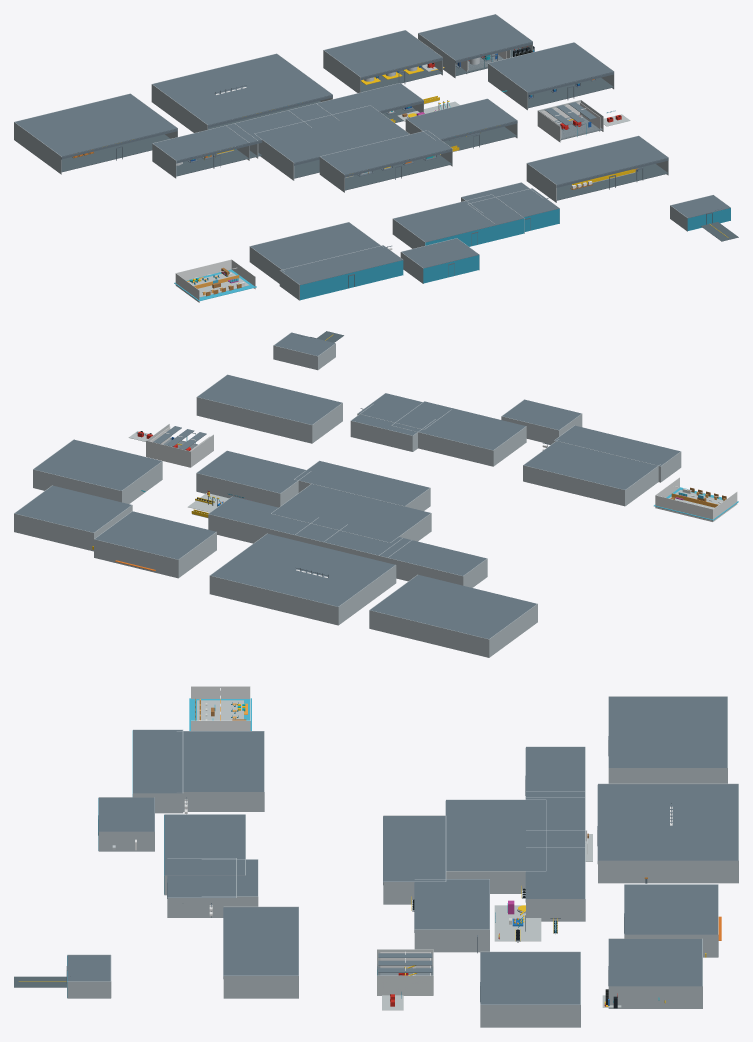
The model's file is POVU_REV005_INTERIOR_COMPLETION_MASTER.glb.
The picture shows the model from 3 angles, top to bottom: view 1: azimuth 30°, elevation 25°; view 2: azimuth 150°, elevation 25°; view 3: azimuth 270°, elevation 25°; orthographic projection. The views are drawn at different scales.
Visible parts, largest first — view 1: V09_PACKAGING_WH_SOFFIT, V09_RAW_MATERIALS_SOFFIT, V09_WET_PROCESS_SOFFIT, V09_ETP_SOFFIT, V09_FINISHED_GOODS_SOFFIT, V09_ADMIN_SOFFIT, V09_RESTAURANT_SOFFIT, V09_CHEM_SOFFIT, V09_UTILITIES_SOFFIT, V09_LIQUID_SOFFIT, V09_BLOW_SOFFIT, V09_WET_WIPES_SOFFIT (+30 smaller); view 2: V09_PACKAGING_WH_SOFFIT, V09_RAW_MATERIALS_SOFFIT, V09_WET_PROCESS_SOFFIT, V09_ETP_SOFFIT, V09_FINISHED_GOODS_SOFFIT, V09_ADMIN_SOFFIT, V09_RESTAURANT_SOFFIT, V09_CHEM_SOFFIT, V09_UTILITIES_SOFFIT, V09_LIQUID_SOFFIT, V09_BLOW_SOFFIT, V09_PACKAGING_WH_BACK_WALL (+30 smaller); view 3: V09_PACKAGING_WH_SOFFIT, V09_RAW_MATERIALS_SOFFIT, V09_WET_PROCESS_SOFFIT, V09_ETP_SOFFIT, V09_ADMIN_SOFFIT, V09_FINISHED_GOODS_SOFFIT, V09_RESTAURANT_SOFFIT, V09_CHEM_SOFFIT, V09_UTILITIES_SOFFIT, V09_LIQUID_SOFFIT, V09_BLOW_SOFFIT, V09_PACKAGING_WH_RIGHT_WALL (+28 smaller).
Part boxes in pixels (<box>): V09_PACKAGING_WH_SOFFIT: <box>152,54,332,125</box>; V09_RAW_MATERIALS_SOFFIT: <box>15,94,177,156</box>; V09_WET_PROCESS_SOFFIT: <box>255,106,409,163</box>; V09_ETP_SOFFIT: <box>489,42,613,92</box>; V09_FINISHED_GOODS_SOFFIT: <box>527,136,668,185</box>; V09_ADMIN_SOFFIT: <box>250,222,382,269</box>; V09_RESTAURANT_SOFFIT: <box>393,194,523,242</box>; V09_CHEM_SOFFIT: <box>324,30,442,77</box>; V09_UTILITIES_SOFFIT: <box>419,14,532,60</box>; V09_LIQUID_SOFFIT: <box>320,131,451,174</box>; V09_BLOW_SOFFIT: <box>406,99,516,139</box>; V09_WET_WIPES_SOFFIT: <box>289,83,423,126</box>; V09_PACKAGING_WH_SOFFIT: <box>211,533,395,606</box>; V09_RAW_MATERIALS_SOFFIT: <box>370,575,536,638</box>; V09_WET_PROCESS_SOFFIT: <box>272,484,430,536</box>; V09_ETP_SOFFIT: <box>34,439,161,490</box>; V09_FINISHED_GOODS_SOFFIT: <box>198,375,341,424</box>; V09_ADMIN_SOFFIT: <box>524,439,657,489</box>; V09_RESTAURANT_SOFFIT: <box>392,401,525,449</box>; V09_CHEM_SOFFIT: <box>95,511,215,559</box>; V09_UTILITIES_SOFFIT: <box>15,485,131,532</box>; V09_LIQUID_SOFFIT: <box>299,461,429,506</box>; V09_BLOW_SOFFIT: <box>197,451,310,493</box>; V09_PACKAGING_WH_BACK_WALL: <box>209,575,338,625</box>; V09_PACKAGING_WH_SOFFIT: <box>598,784,738,860</box>; V09_RAW_MATERIALS_SOFFIT: <box>608,697,727,767</box>; V09_WET_PROCESS_SOFFIT: <box>446,800,545,870</box>; V09_ETP_SOFFIT: <box>480,952,580,1004</box>; V09_ADMIN_SOFFIT: <box>176,731,263,791</box>; V09_FINISHED_GOODS_SOFFIT: <box>223,907,298,975</box>; V09_RESTAURANT_SOFFIT: <box>164,814,245,875</box>; V09_CHEM_SOFFIT: <box>624,884,717,934</box>; V09_UTILITIES_SOFFIT: <box>608,939,702,986</box>; V09_LIQUID_SOFFIT: <box>383,816,445,881</box>; V09_BLOW_SOFFIT: <box>414,879,489,929</box>; V09_PACKAGING_WH_RIGHT_WALL: <box>598,860,738,883</box>.
Size of the model in its own units: 247 by 9.25 by 232.
